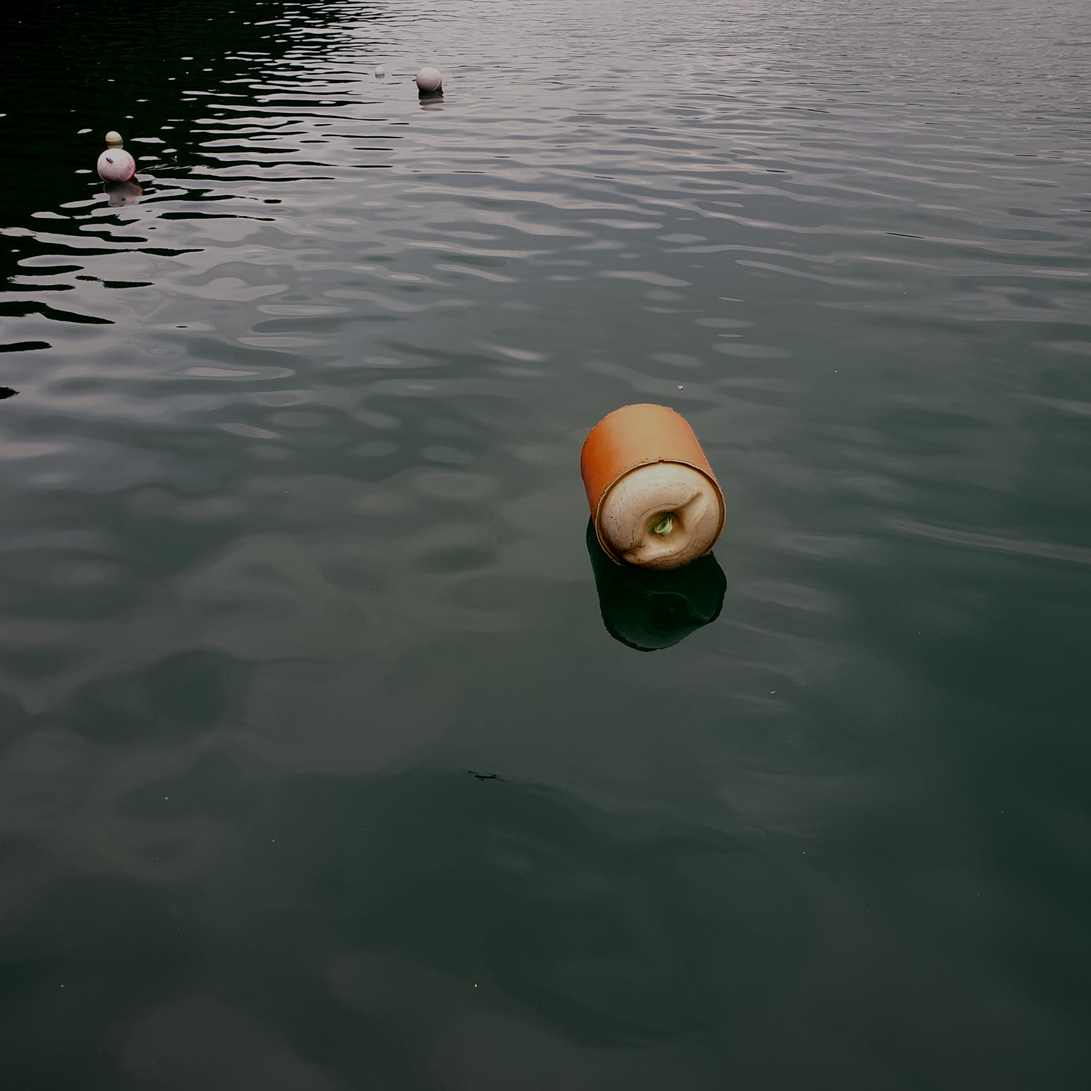sampah_terapung: (581, 403, 727, 573), (97, 149, 137, 184), (135, 156, 178, 175), (416, 67, 442, 92), (106, 131, 123, 144), (376, 67, 385, 75)
